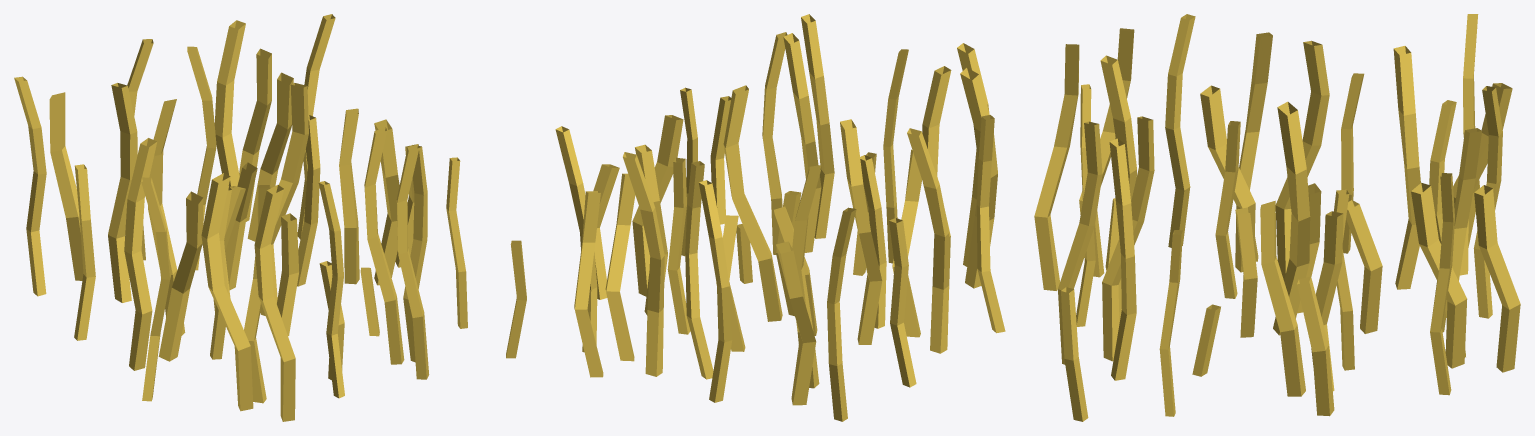
The model's file is Wheat-Null.fbx.
3 views of the same model, side by side, from view 1: azimuth 30°, elevation 25°; view 2: azimuth 150°, elevation 25°; view 3: azimuth 270°, elevation 25° (orthographic). The views are drawn at different scales.
Visible parts, largest first — view 1: Wheat; view 2: Wheat; view 3: Wheat.
Boxes of the visible parts, x1,y1,x2,y2 form: Wheat: (14, 14, 526, 421); Wheat: (555, 14, 1005, 421); Wheat: (1034, 14, 1520, 421).
Size of the model in its own units: 112 by 72.08 by 125.
